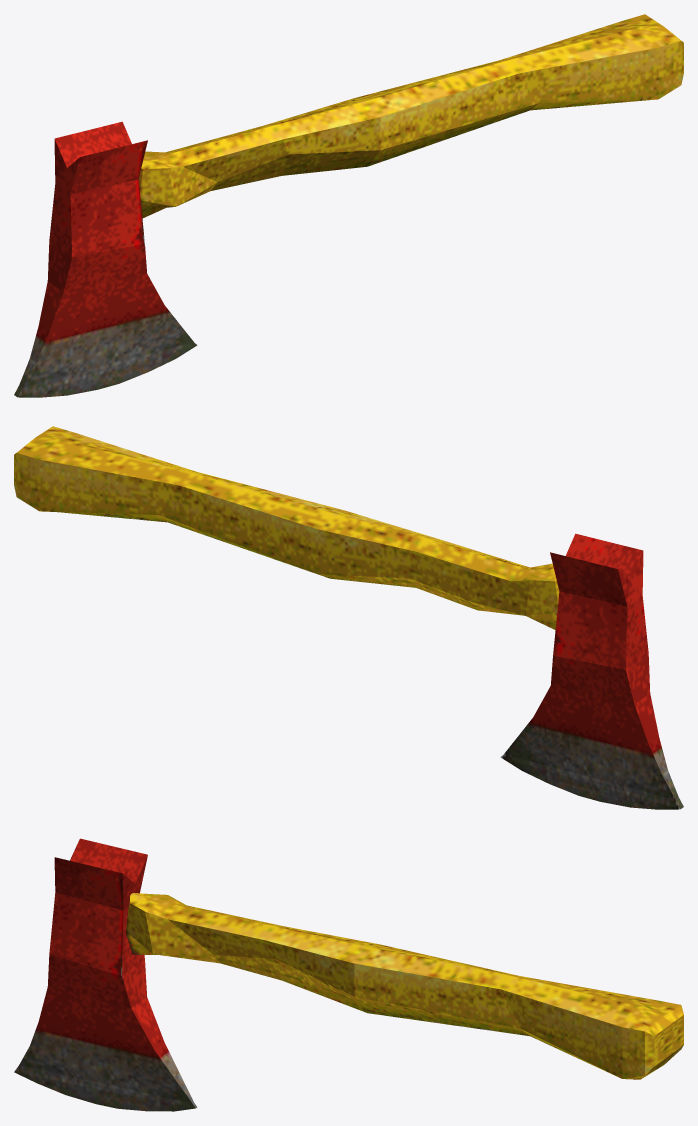
The model's file is Axe.fbx.
3 renders of one model, top to bottom at view 1: azimuth 30°, elevation 25°; view 2: azimuth 150°, elevation 25°; view 3: azimuth 330°, elevation 25°, orthographic.
Parts seen in each view (by area): view 1: Axe; view 2: Axe; view 3: Axe.
Part boxes in pixels (left/top/right/bottom): Axe: left=14, top=14, right=683, bottom=397; Axe: left=14, top=426, right=683, bottom=809; Axe: left=14, top=838, right=683, bottom=1111.
Size of the model in its own units: 257 by 93.65 by 24.78.
Materials: 1 (1 with a texture image).
